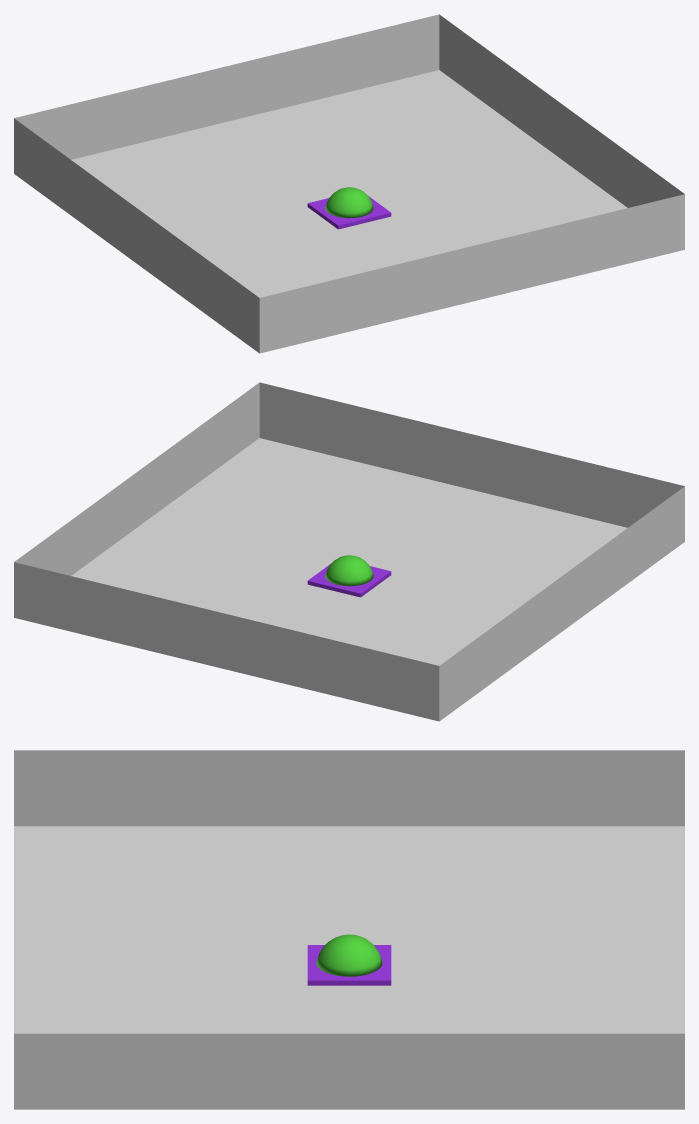
File: sceneBox.dae
The picture shows the model from 3 angles, top to bottom: view 1: azimuth 30°, elevation 25°; view 2: azimuth 150°, elevation 25°; view 3: azimuth 270°, elevation 25°; orthographic projection. The views are drawn at different scales.
Visible parts, largest first — view 1: sceneBox, jumpBox; view 2: sceneBox, jumpBox; view 3: sceneBox, jumpBox.
Boxes of the visible parts, x1,y1,x2,y2 form: sceneBox: (14, 14, 684, 353); jumpBox: (307, 187, 391, 229); sceneBox: (14, 382, 684, 721); jumpBox: (307, 555, 391, 597); sceneBox: (14, 750, 684, 1109); jumpBox: (307, 934, 391, 985).
Size of the model in its own units: 16 by 16 by 2.
